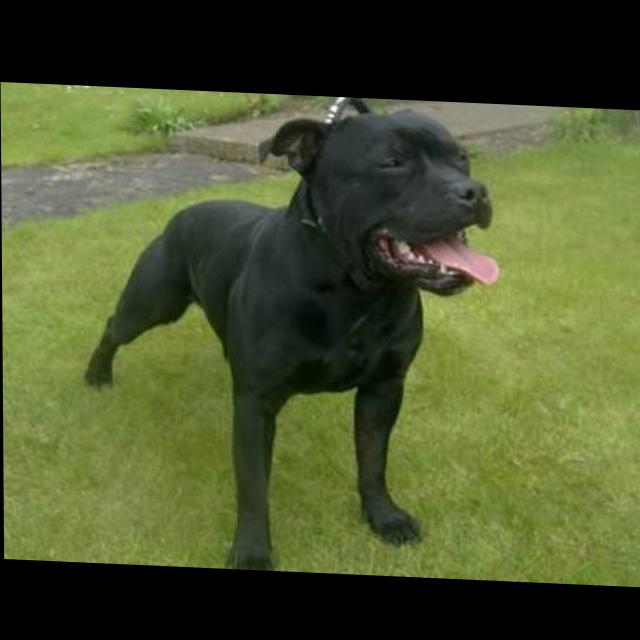staffford: (83, 88, 502, 576)
